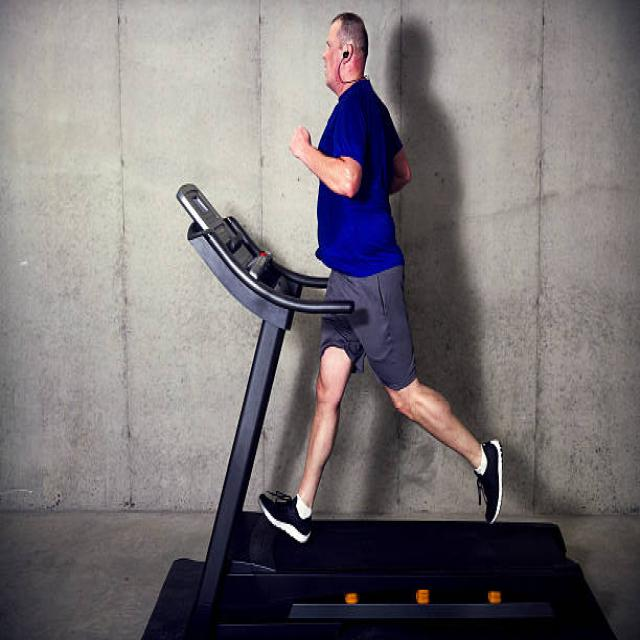Neckband: (338, 50, 370, 86)
